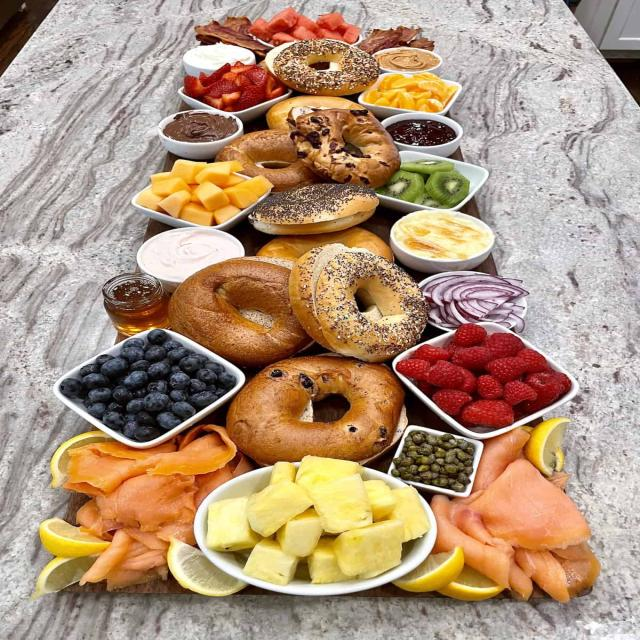Bagel: (226, 356, 404, 465), (289, 244, 429, 362), (168, 258, 312, 368)
